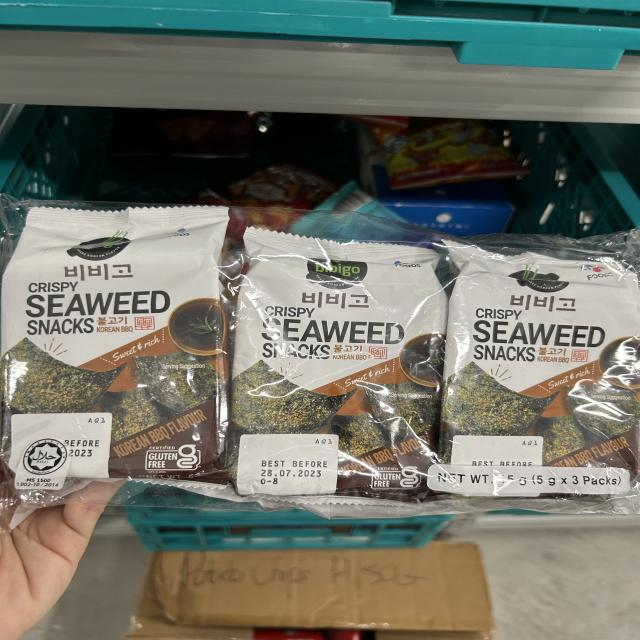object_name: (2, 205, 637, 508)
